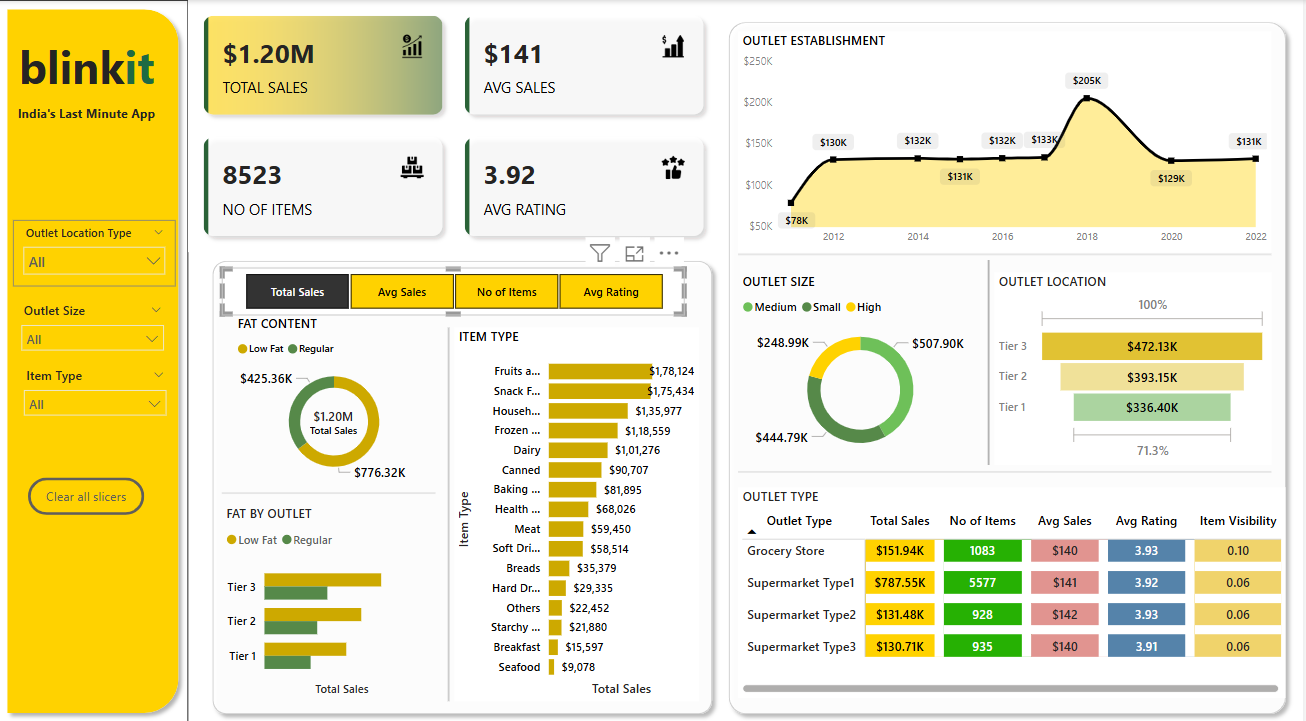

Layout of this report page (visuals, bound fields, positions):
{"tool":"powerbi","page":{"name":"Page 1","canvas":[1400,800],"ordinal":0},"visuals":[{"type":"shape","box":[0,0,203.8,774.8],"z":0},{"type":"cardVisual","fields":{"Data":["Measures Table (2).Total Sales","Measures Table (2).Avg Sales","Measures Table (2).No of Items","Measures Table (2).Avg Rating"]},"box":[204.1,0,570.3,270.2],"z":3000},{"type":"shape","box":[221.2,270.8,553.6,504],"z":4000},{"type":"slicer","fields":{"Values":["Metrics.Metrics"]},"box":[240.1,286.7,496.8,51],"z":5000},{"type":"donutChart","title":"FAT CONTENT","fields":{"Y":["Measures Table (2).Total Sales"],"Category":["Blinkit Grocery Data.Item Fat Content"]},"box":[252,337.8,217.2,183.6],"z":6000},{"type":"cardVisual","fields":{"Data":["Measures Table (2).Total Sales"]},"box":[288.2,410.2,143.4,84.5],"z":7000},{"type":"clusteredBarChart","title":"FAT BY OUTLET","fields":{"Category":["Blinkit Grocery Data.Outlet Location Type"],"Y":["Measures Table (2).Total Sales"],"Series":["Blinkit Grocery Data.Item Fat Content"]},"box":[239.9,541.6,217.2,210.5],"z":8000},{"type":"shape","box":[239.9,521.5,229.2,14.7],"z":9000},{"type":"shape","box":[477.2,351.2,12.1,400.8],"z":10000},{"type":"clusteredBarChart","title":"ITEM TYPE","fields":{"Y":["Measures Table (2).Total Sales"],"Category":["Blinkit Grocery Data.Item Type"]},"box":[489.3,351.2,262.7,400.8],"z":11000},{"type":"shape","box":[774.8,14.7,615.3,760.1],"z":12000},{"type":"lineChart","title":"OUTLET ESTABLISHMENT","fields":{"Category":["Blinkit Grocery Data.Outlet Establishment Year"],"Y":["Measures Table (2).Total Sales"]},"box":[793.6,33.5,572.4,237.3],"z":13000},{"type":"shape","box":[793.6,266.8,572.4,12.1],"z":14000},{"type":"donutChart","title":"OUTLET SIZE","fields":{"Y":["Measures Table (2).Total Sales"],"Category":["Blinkit Grocery Data.Outlet Size"]},"box":[793.6,292.2,262.7,206.4],"z":15000},{"type":"shape","box":[1056.3,278.8,12.1,219.8],"z":16000},{"type":"funnel","title":"OUTLET LOCATION ","fields":{"Category":["Blinkit Grocery Data.Outlet Location Type"],"Y":["Measures Table (2).Total Sales"]},"box":[1068.4,292.2,297.6,206.4],"z":17000},{"type":"shape","box":[793.6,500,572.4,12.1],"z":18000},{"type":"pivotTable","title":"OUTLET TYPE","fields":{"Rows":["Blinkit Grocery Data.Outlet Type"],"Values":["Measures Table (2).Total Sales","Measures Table (2).No of Items","Measures Table (2).Avg Sales","Measures Table (2).Avg Rating","Avg(Blinkit Grocery Data.Item Visibility)"]},"box":[793.6,522.8,587.1,225.2],"z":19000},{"type":"slicer","fields":{"Values":["Blinkit Grocery Data.Outlet Location Type"]},"box":[16.1,235.9,174.3,71],"z":20000},{"type":"slicer","fields":{"Values":["Blinkit Grocery Data.Outlet Size"]},"box":[14.7,324.4,172.9,63],"z":21000},{"type":"slicer","fields":{"Values":["Blinkit Grocery Data.Outlet Size"]},"box":[14.7,319,172.9,63],"z":22000},{"type":"slicer","fields":{"Values":["Blinkit Grocery Data.Item Type"]},"box":[17.4,388.7,172.9,63],"z":23000},{"type":"actionButton","box":[32.2,512.1,124.7,40.2],"z":24000},{"type":"textbox","box":[16.1,107.2,168.9,30.8],"z":24002},{"type":"textbox","box":[17.4,33.5,166.2,73.7],"z":24003}]}

Visuals, with their boxes on the page's 1400x800 design canvas (x1, y1, x2, y2). These are canvas units, not pixel positions in the 1306x721 screenshot, which may show the page scaled, cropped or inside an application window:
shape: [left=0, top=0, right=204, bottom=775]
cardVisual - Measures Table (2).Total Sales x Measures Table (2).Avg Sales: [left=204, top=0, right=774, bottom=270]
shape: [left=221, top=271, right=775, bottom=775]
slicer - Metrics.Metrics: [left=240, top=287, right=737, bottom=338]
"FAT CONTENT" donutChart: [left=252, top=338, right=469, bottom=521]
cardVisual - Measures Table (2).Total Sales: [left=288, top=410, right=432, bottom=495]
"FAT BY OUTLET" clusteredBarChart: [left=240, top=542, right=457, bottom=752]
shape: [left=240, top=522, right=469, bottom=536]
shape: [left=477, top=351, right=489, bottom=752]
"ITEM TYPE" clusteredBarChart: [left=489, top=351, right=752, bottom=752]
shape: [left=775, top=15, right=1390, bottom=775]
"OUTLET ESTABLISHMENT" lineChart: [left=794, top=34, right=1366, bottom=271]
shape: [left=794, top=267, right=1366, bottom=279]
"OUTLET SIZE" donutChart: [left=794, top=292, right=1056, bottom=499]
shape: [left=1056, top=279, right=1068, bottom=499]
"OUTLET LOCATION " funnel: [left=1068, top=292, right=1366, bottom=499]
shape: [left=794, top=500, right=1366, bottom=512]
"OUTLET TYPE" pivotTable: [left=794, top=523, right=1381, bottom=748]
slicer - Blinkit Grocery Data.Outlet Location Type: [left=16, top=236, right=190, bottom=307]
slicer - Blinkit Grocery Data.Outlet Size: [left=15, top=324, right=188, bottom=387]
slicer - Blinkit Grocery Data.Outlet Size: [left=15, top=319, right=188, bottom=382]
slicer - Blinkit Grocery Data.Item Type: [left=17, top=389, right=190, bottom=452]
actionButton: [left=32, top=512, right=157, bottom=552]
textbox: [left=16, top=107, right=185, bottom=138]
textbox: [left=17, top=34, right=184, bottom=107]
